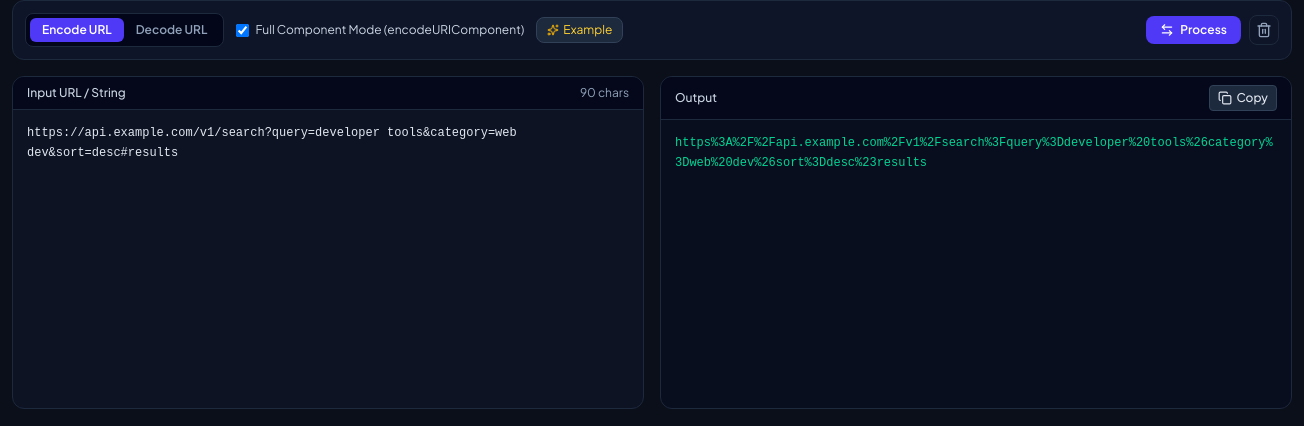
Test: UrlEncoderDecoder Tool › clears input and output on trash button click
Click the button titled "Clear all". click: (1264, 30)
box: [1249,15,1279,45]
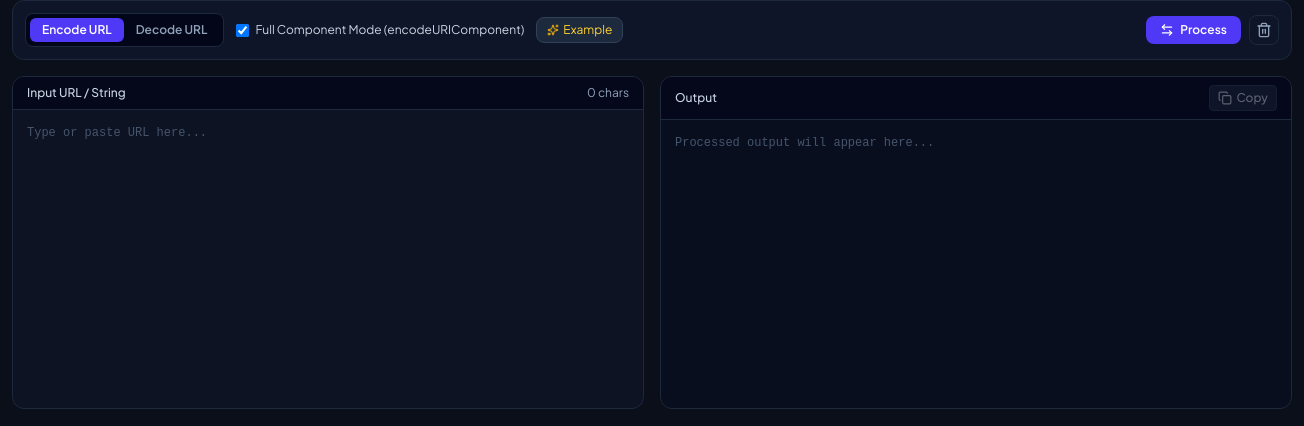
Result: the text box with placeholder "Type or paste URL here..." is empty at [13,110,643,398]
Result: the text box with placeholder "Processed output will appear here..." is empty at [661,120,1291,408]
